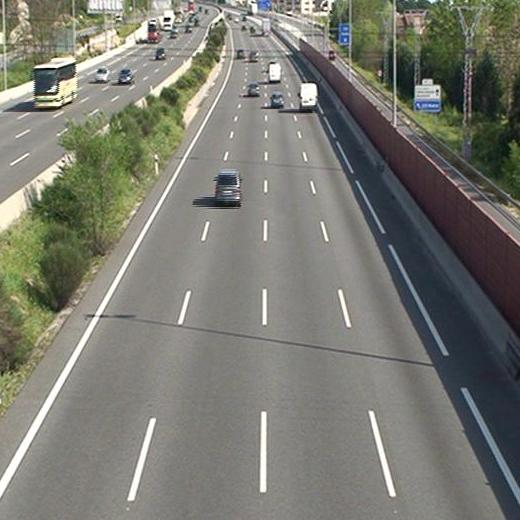car: (214, 171, 240, 204), (271, 92, 283, 108), (247, 83, 259, 96), (248, 52, 257, 61), (236, 50, 244, 58)
van: (298, 82, 318, 110), (268, 63, 281, 83)
